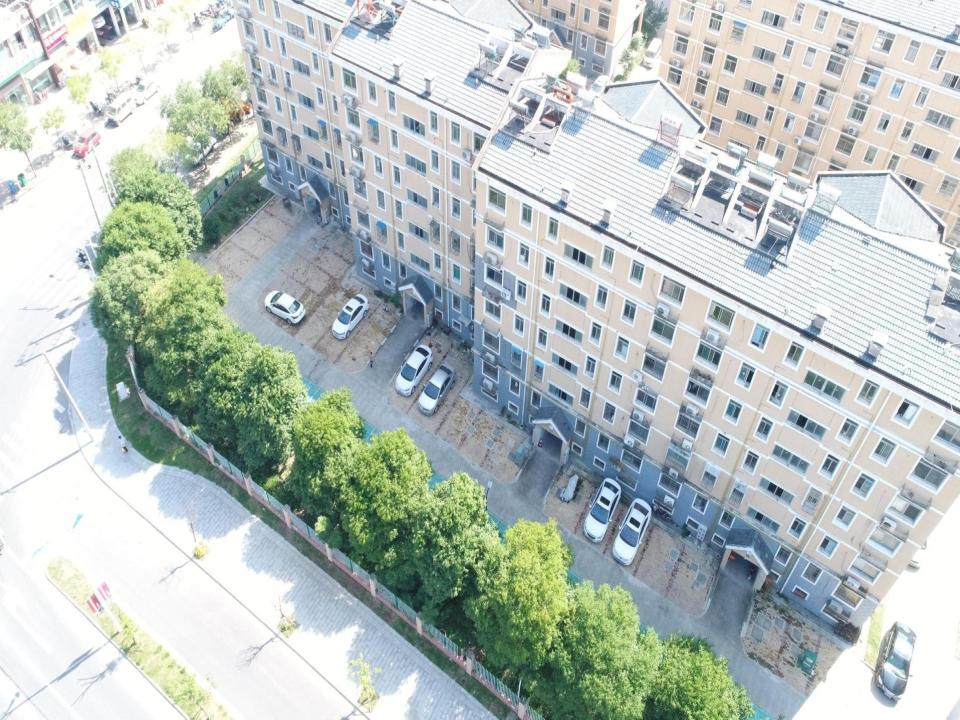car: (872, 620, 915, 706), (610, 496, 656, 570), (582, 475, 624, 548), (414, 362, 457, 418), (393, 342, 433, 398), (330, 292, 368, 343), (264, 288, 306, 328), (104, 93, 135, 127), (903, 529, 928, 569), (186, 134, 217, 165), (72, 129, 100, 160), (133, 77, 158, 102)
van: (642, 36, 662, 69)
